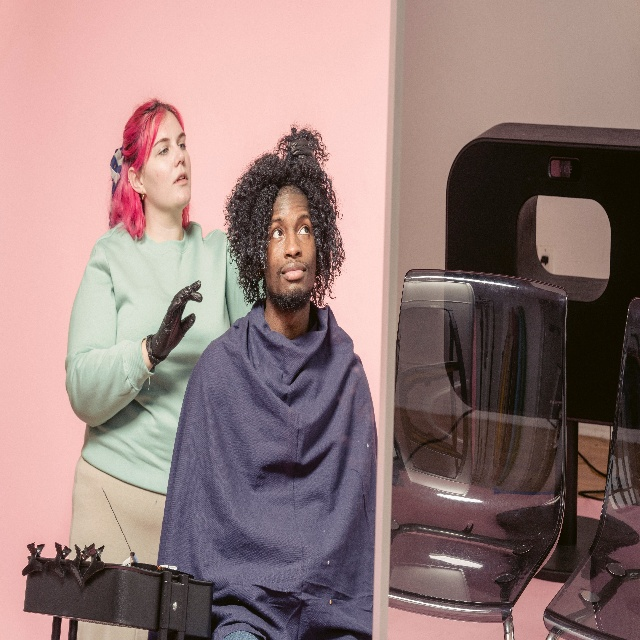Guantes: (145, 280, 203, 367), (287, 138, 316, 158)
